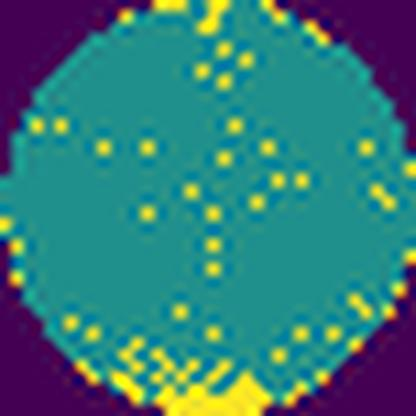Edge-Loc: (148, 359, 275, 416)
